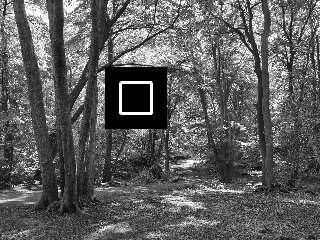square: (105, 67, 167, 129)
